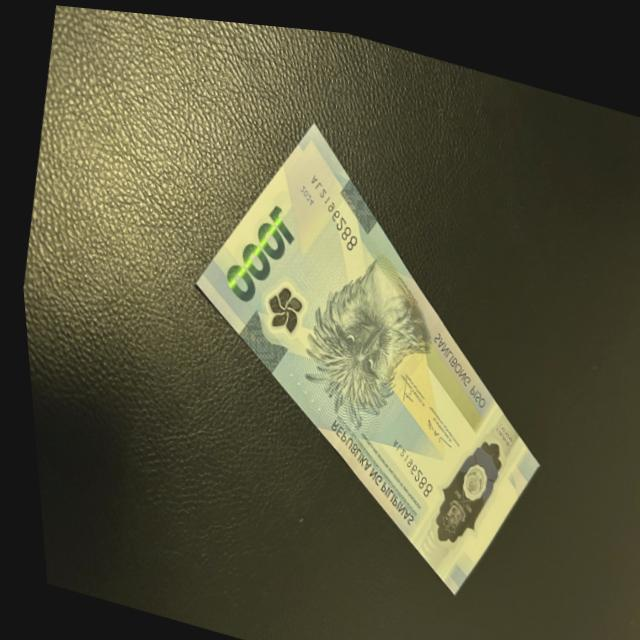clear_window: (416, 408, 505, 547)
eagle: (291, 245, 425, 430)
sampaguita: (256, 267, 306, 340)
